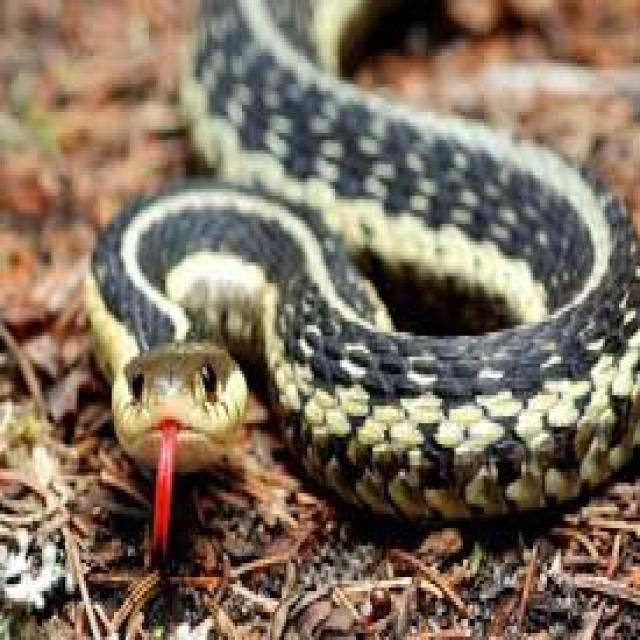Snake: (80, 0, 640, 528)
